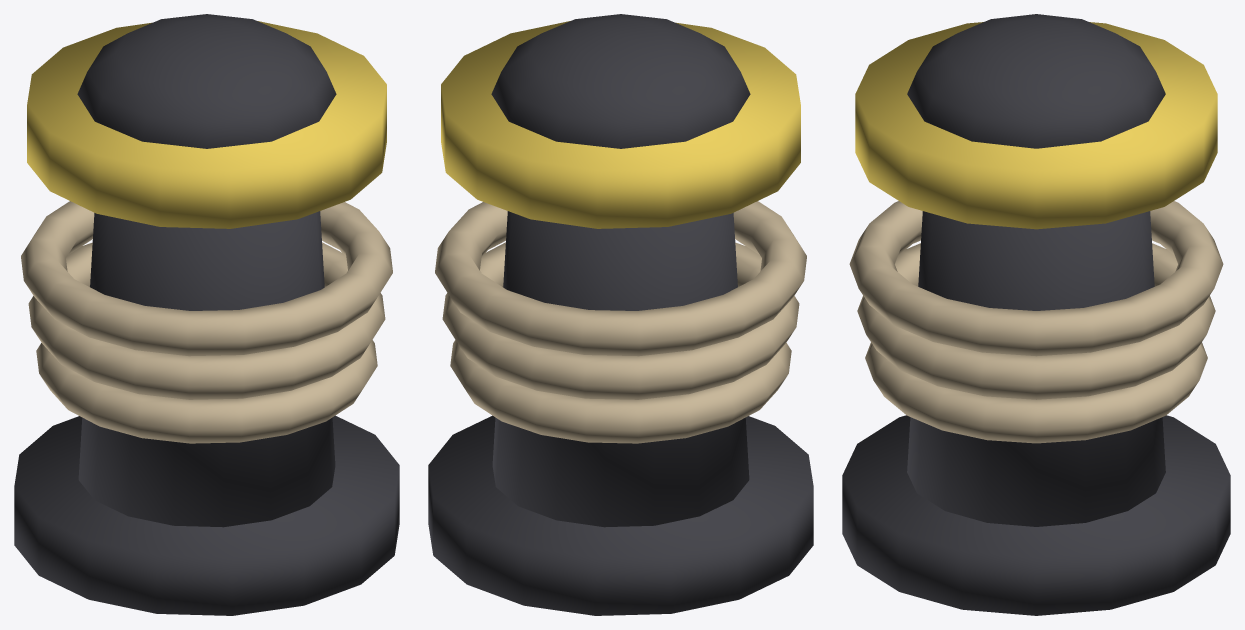
The model's file is bollard.glb.
3 views of the same model, side by side, from view 1: azimuth 30°, elevation 25°; view 2: azimuth 150°, elevation 25°; view 3: azimuth 270°, elevation 25° (orthographic).
Parts seen in each view (by area): view 1: bollard; view 2: bollard; view 3: bollard.
Part boxes in pixels (left/top/right/bottom): bollard: left=14, top=14, right=399, bottom=615; bollard: left=428, top=14, right=813, bottom=615; bollard: left=842, top=14, right=1230, bottom=615.
Bounding box in the file's own units: 0.6 × 0.85 × 0.6.
